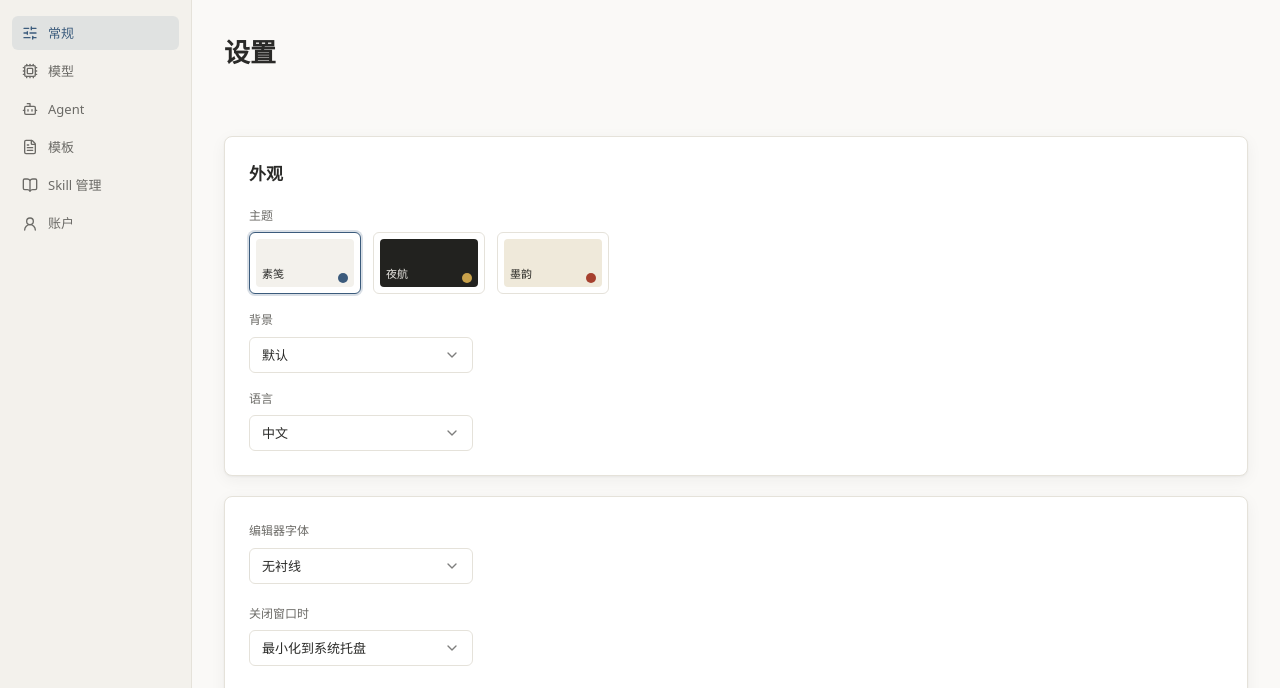
Test: 设置页 — Agent 分类（迁移自 AgentChainCard，spec §7.4/§7.6） › 默认模型下拉：combobox「默认模型」选项 = provider-configs chat 模型列表（F42 #268 R1 ①：openai/deepseek/ollama 硬编码 → chat 扁平）
Click the button "Agent".
click(96, 109)  # box [12,92,179,126]
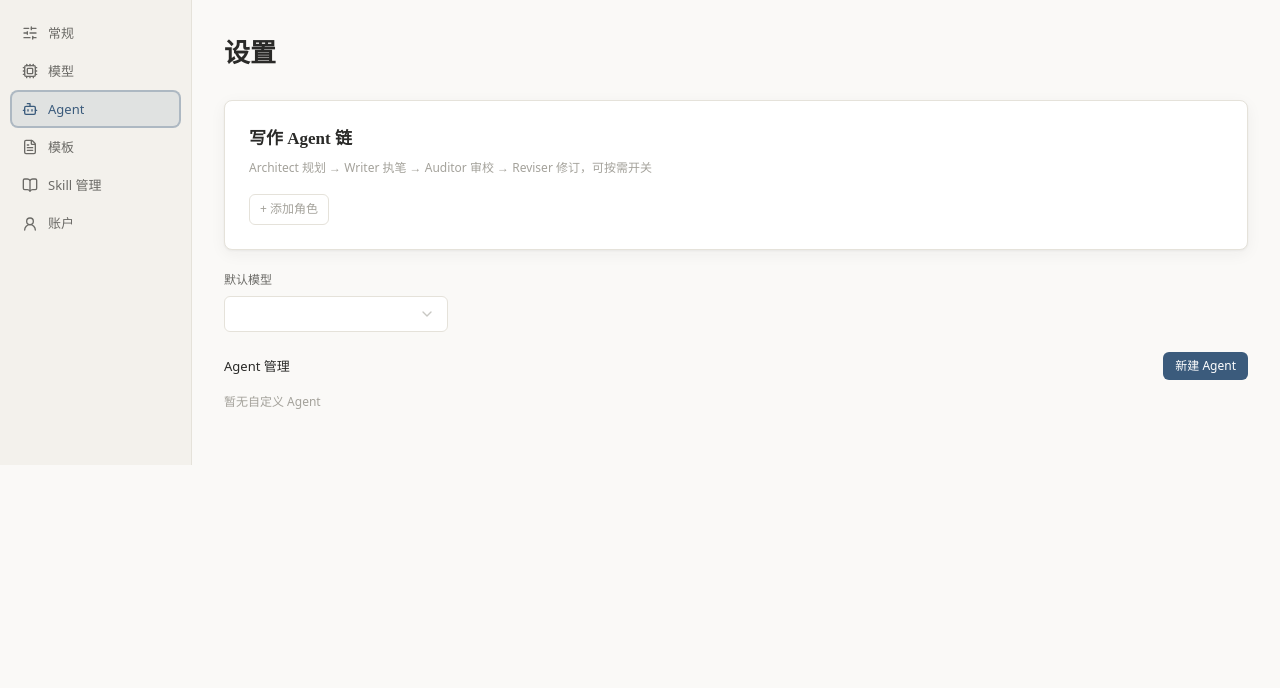
Click the dropdown named "默认模型".
click(336, 314)  # box [224,296,448,332]
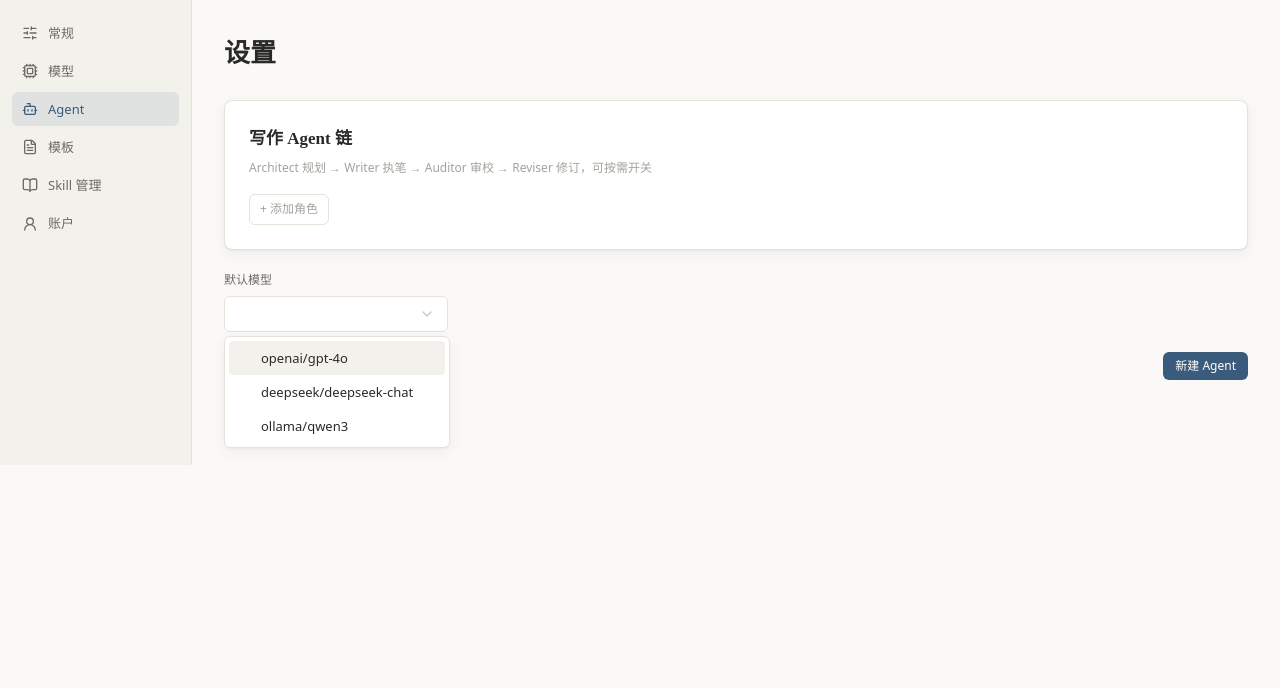
Now the option "openai/gpt-4o" is shown, box [229,341,445,375]
Now the option "deepseek/deepseek-chat" is shown, box [261,383,413,401]
Now the option "ollama/qwen3" is shown, box [261,417,348,435]
